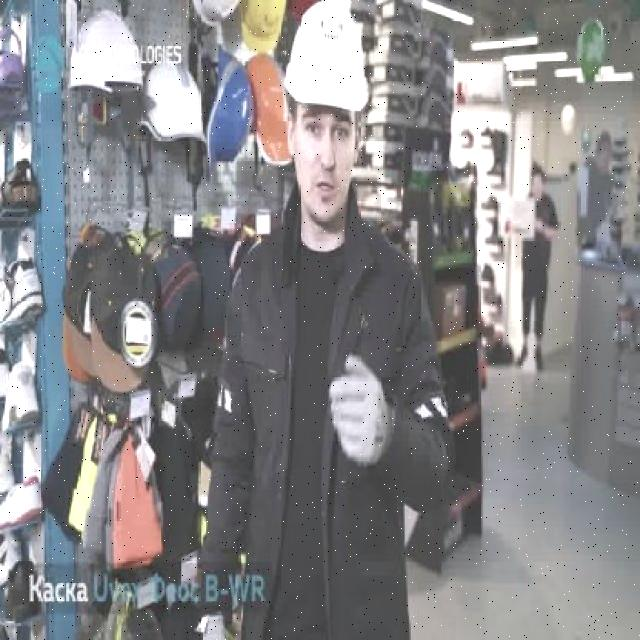Gloves: (324, 350, 394, 468)
Helmet: (283, 0, 371, 112), (66, 10, 146, 96), (203, 45, 252, 178), (140, 56, 211, 147), (244, 48, 296, 170), (236, 0, 287, 52)
